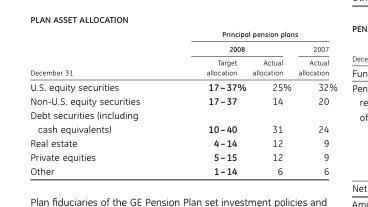table: (29, 29, 336, 176)
table column: (29, 29, 172, 176), (172, 29, 248, 176), (248, 29, 294, 176), (294, 29, 336, 176)
table column header: (29, 29, 336, 78)
table row: (29, 107, 336, 135), (29, 55, 336, 78), (29, 40, 336, 55), (29, 78, 336, 93), (29, 93, 336, 107), (29, 135, 336, 149), (29, 149, 336, 163), (29, 163, 336, 176), (29, 29, 336, 40)
table spanning cell: (29, 29, 172, 78), (172, 40, 294, 55), (172, 29, 336, 40), (294, 40, 336, 78)
